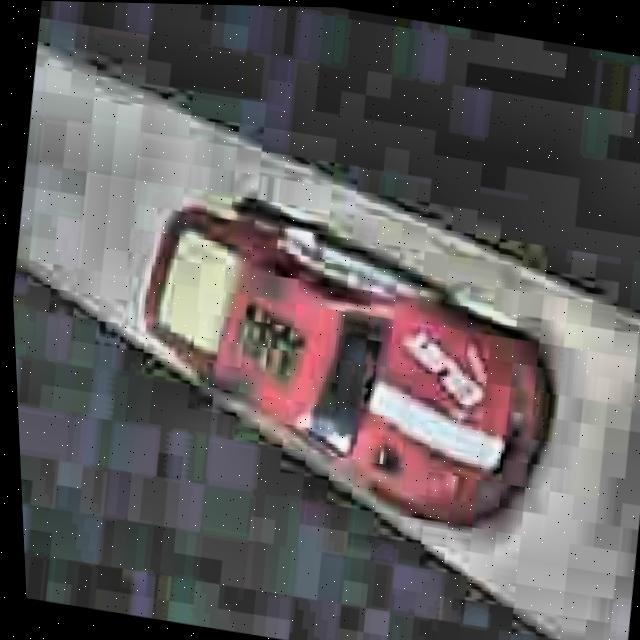car: (112, 178, 587, 546)
